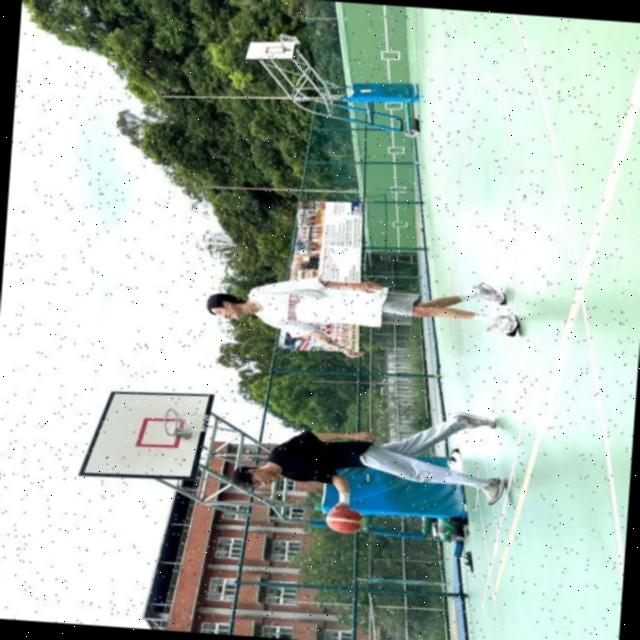ball: (324, 502, 362, 534)
hoop: (164, 404, 178, 442), (277, 29, 286, 49)
